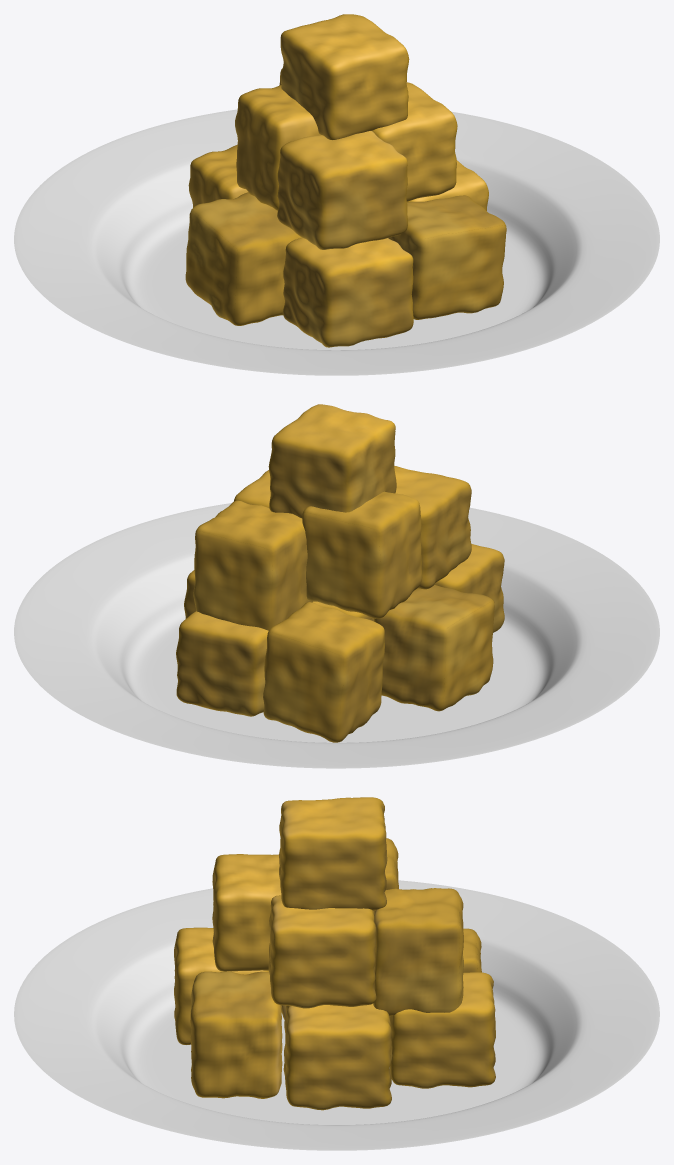
Rendered from tahusumedang.fbx.
3 views of the same model, one above another, from view 1: azimuth 30°, elevation 25°; view 2: azimuth 150°, elevation 25°; view 3: azimuth 270°, elevation 25° (orthographic).
Parts seen in each view (by area): view 1: Plate, tahu.007, tahu.011, tahu.006, tahu.004, tahu.005, tahu.009, tahu.008, tahu.003, tahu.001; view 2: Plate, tahu.003, tahu.010, tahu.009, tahu.004, tahu.011, tahu.002, tahu.007, tahu.006, tahu.008; view 3: Plate, tahu.011, tahu.005, tahu.001, tahu.010, tahu.008, tahu.002, tahu.007, tahu.006, tahu.003, tahu.009.
Boxes of the visible parts, left/top/right/bottom form: Plate: left=14, top=109, right=659, bottom=375; tahu.007: left=277, top=131, right=407, bottom=249; tahu.011: left=280, top=14, right=409, bottom=139; tahu.006: left=282, top=237, right=413, bottom=347; tahu.004: left=185, top=192, right=301, bottom=325; tahu.005: left=388, top=195, right=506, bottom=319; tahu.009: left=235, top=85, right=320, bottom=210; tahu.008: left=372, top=82, right=457, bottom=201; tahu.003: left=188, top=144, right=247, bottom=207; tahu.001: left=407, top=160, right=488, bottom=210; Plate: left=14, top=503, right=659, bottom=768; tahu.003: left=263, top=602, right=384, bottom=742; tahu.010: left=193, top=500, right=312, bottom=630; tahu.009: left=302, top=491, right=422, bottom=618; tahu.004: left=374, top=584, right=494, bottom=711; tahu.011: left=268, top=404, right=396, bottom=518; tahu.002: left=176, top=611, right=268, bottom=716; tahu.007: left=394, top=466, right=471, bottom=589; tahu.006: left=434, top=544, right=504, bottom=632; tahu.008: left=234, top=470, right=270, bottom=507; Plate: left=14, top=880, right=659, bottom=1150; tahu.011: left=279, top=797, right=387, bottom=910; tahu.005: left=190, top=971, right=282, bottom=1098; tahu.001: left=283, top=1003, right=392, bottom=1110; tahu.010: left=373, top=888, right=463, bottom=1016; tahu.008: left=268, top=895, right=376, bottom=1008; tahu.002: left=389, top=972, right=495, bottom=1088; tahu.007: left=212, top=854, right=281, bottom=971; tahu.006: left=174, top=927, right=268, bottom=1044; tahu.003: left=463, top=928, right=481, bottom=972; tahu.009: left=385, top=838, right=398, bottom=889.
Size of the model in its own units: 81.33 by 34.52 by 81.33.
2 materials, 1 textured.
